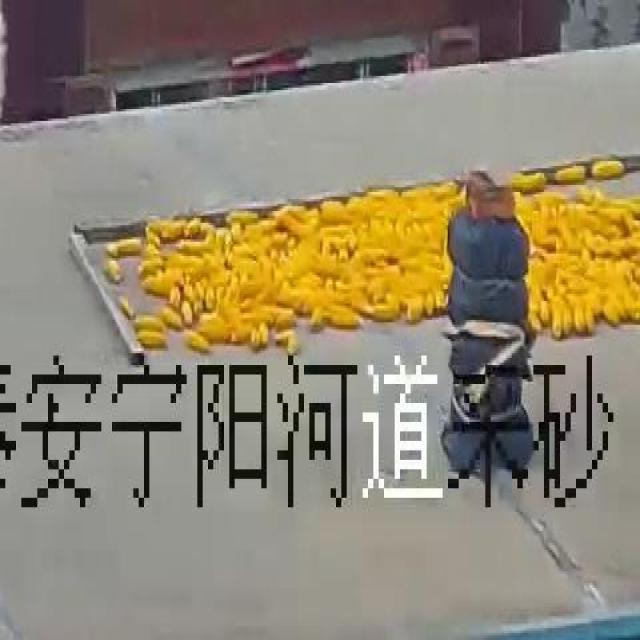other: (106, 167, 632, 346)
